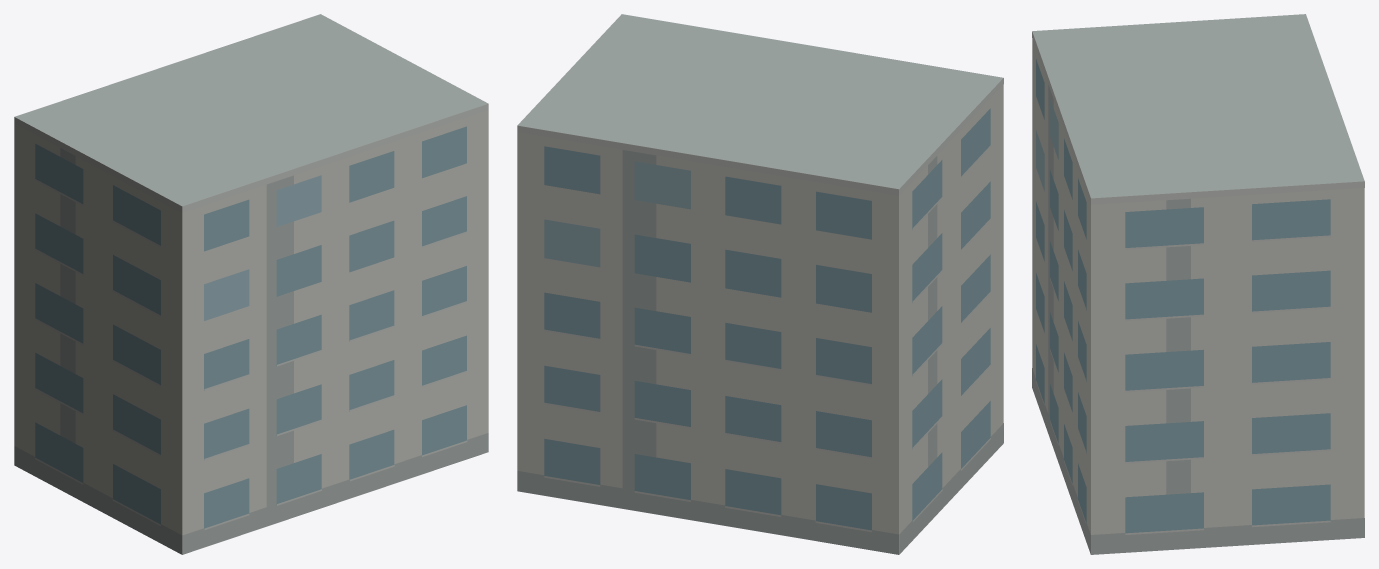
File: survey-upis-32542601.glb
3 views of the same model, side by side, from view 1: azimuth 30°, elevation 25°; view 2: azimuth 150°, elevation 25°; view 3: azimuth 270°, elevation 25° (orthographic). The views are drawn at different scales.
Visible parts, largest first — view 1: survey-upis-32542601.tmp; view 2: survey-upis-32542601.tmp; view 3: survey-upis-32542601.tmp.
Part boxes in pixels (x1,y1,x2,y2): survey-upis-32542601.tmp: (14, 14, 488, 554); survey-upis-32542601.tmp: (517, 14, 1003, 554); survey-upis-32542601.tmp: (1032, 14, 1364, 554).
Size of the model in its own units: 14.76 by 13.3 by 11.26.
